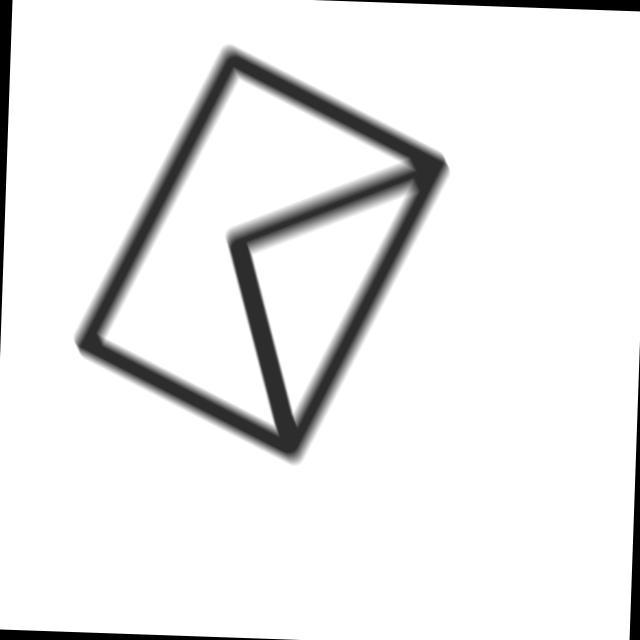letter: (68, 36, 454, 479)
